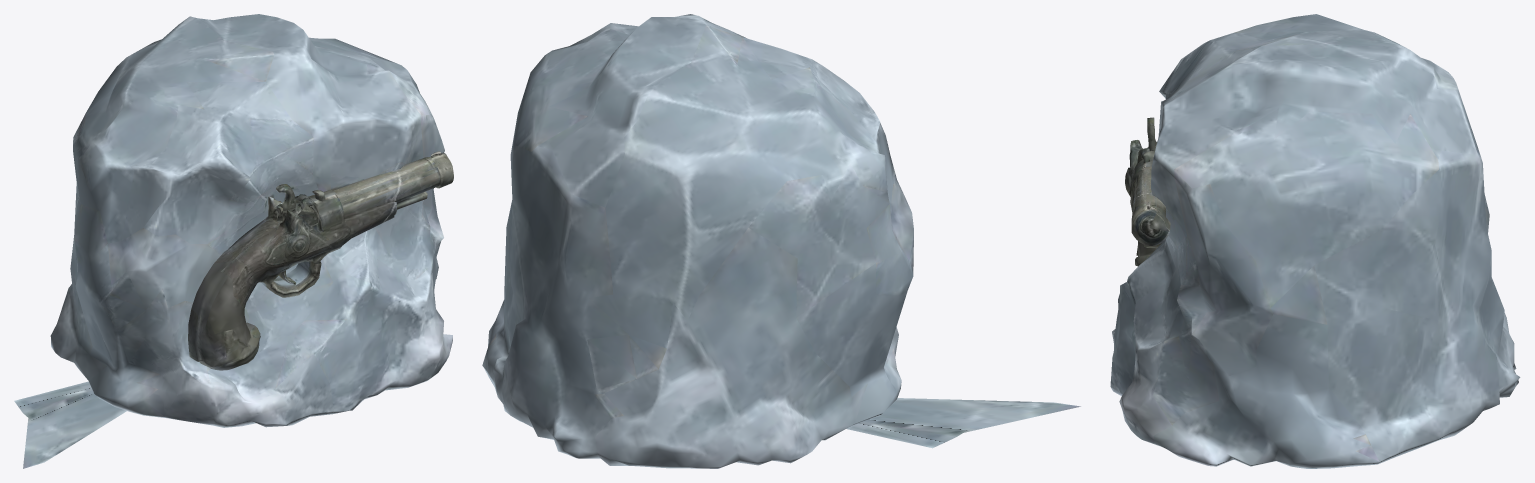
Rendered from node_ice_treasure_gun.glb.
3 views of the same model, side by side, from view 1: azimuth 30°, elevation 25°; view 2: azimuth 150°, elevation 25°; view 3: azimuth 270°, elevation 25° (orthographic). The views are drawn at different scales.
Bounding box in the file's own units: 0.417 × 0.2715 × 0.2925.
Materials: 1 (1 with a texture image).
